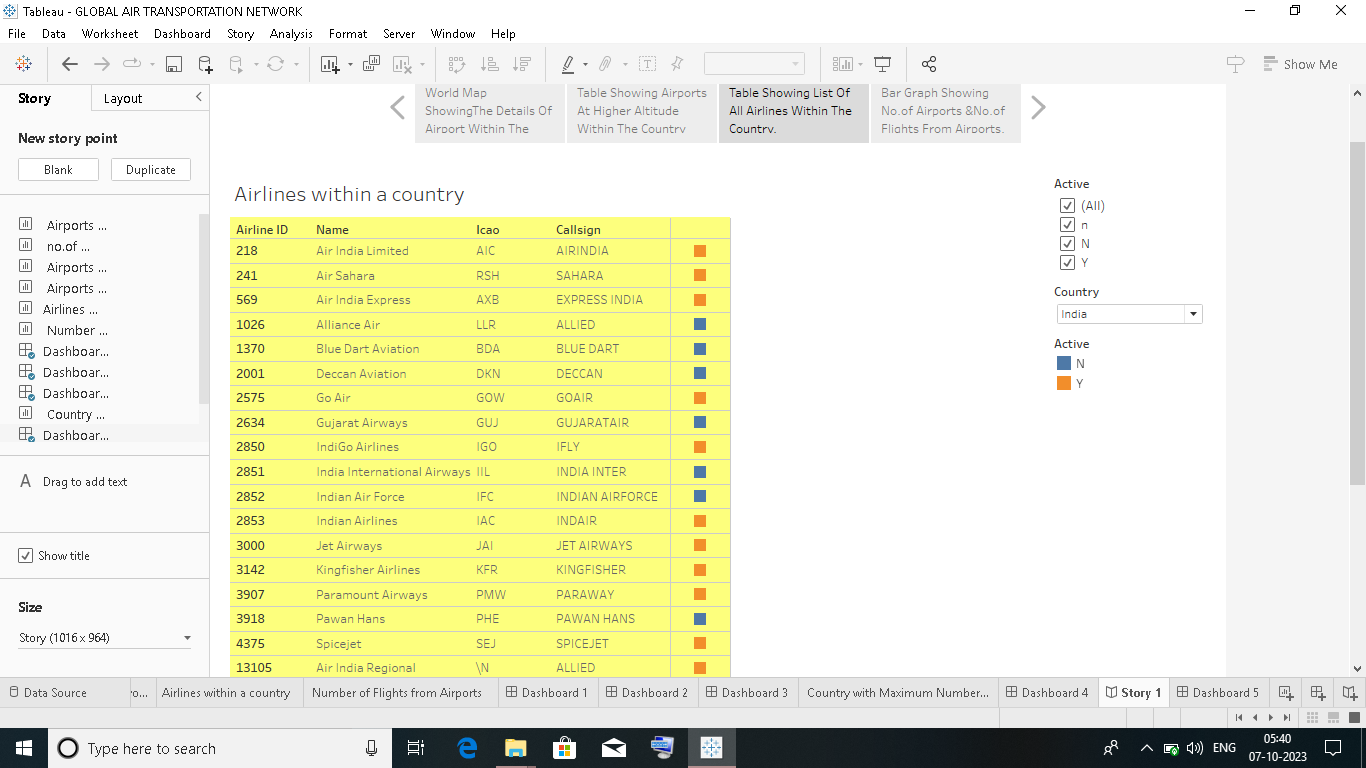

The page's visual inventory and layout, read from the dashboard file:
{"tool":"tableau","page":{"name":"Dashboard 4","canvas":[1000,800],"ordinal":3},"visuals":[{"type":"worksheet","title":"Airlines within a country","mark":"Automatic","rows":["Airline ID","Name","ICAO","Callsign"],"box":[8,8,824,784]},{"type":"filter","title":"Airlines within a country","param":"[federated.10ei6qe0yz0oh80zsnboy1ecpc5a].[none:Active:nk]","box":[832,8,160,108]},{"type":"filter","title":"Airlines within a country","param":"[federated.10ei6qe0yz0oh80zsnboy1ecpc5a].[none:Country:nk]","box":[832,116,160,52]},{"type":"legend","title":"Airlines within a country","param":"[federated.10ei6qe0yz0oh80zsnboy1ecpc5a].[none:Active:nk]","box":[832,168,160,66]}]}

Visuals, with their boxes on the page's 1000x800 design canvas (x1, y1, x2, y2). These are canvas units, not pixel positions in the 1366x768 screenshot, which may show the page scaled, cropped or inside an application window:
"Airlines within a country" worksheet: locate(8, 8, 832, 792)
"Airlines within a country" filter: locate(832, 8, 992, 116)
"Airlines within a country" filter: locate(832, 116, 992, 168)
"Airlines within a country" legend: locate(832, 168, 992, 234)
